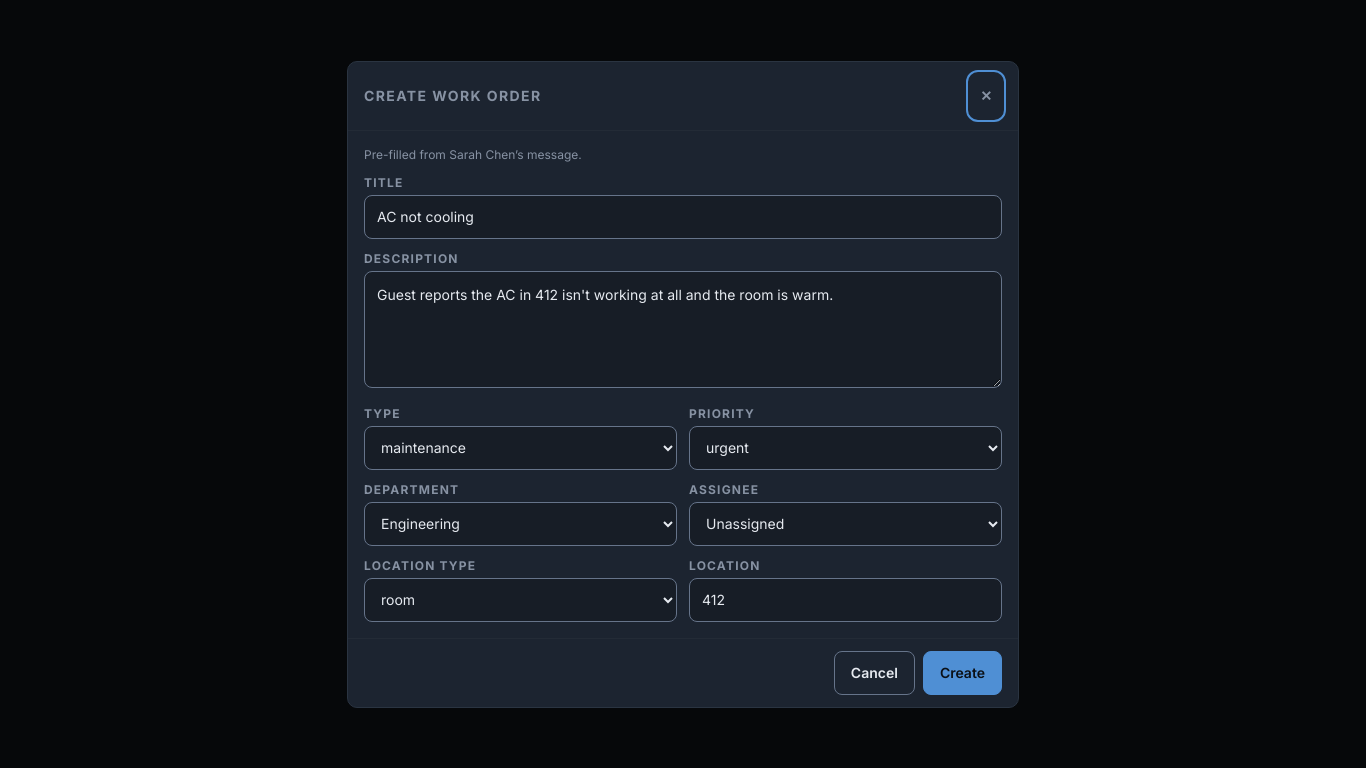
CreateWorkOrderModal › shows the server error and stays open on failure
Expected: the field labelled "Title" holds "AC not cooling", [364, 194, 1002, 238]
Click the button "Create" at (962, 672), box [923, 650, 1002, 694]
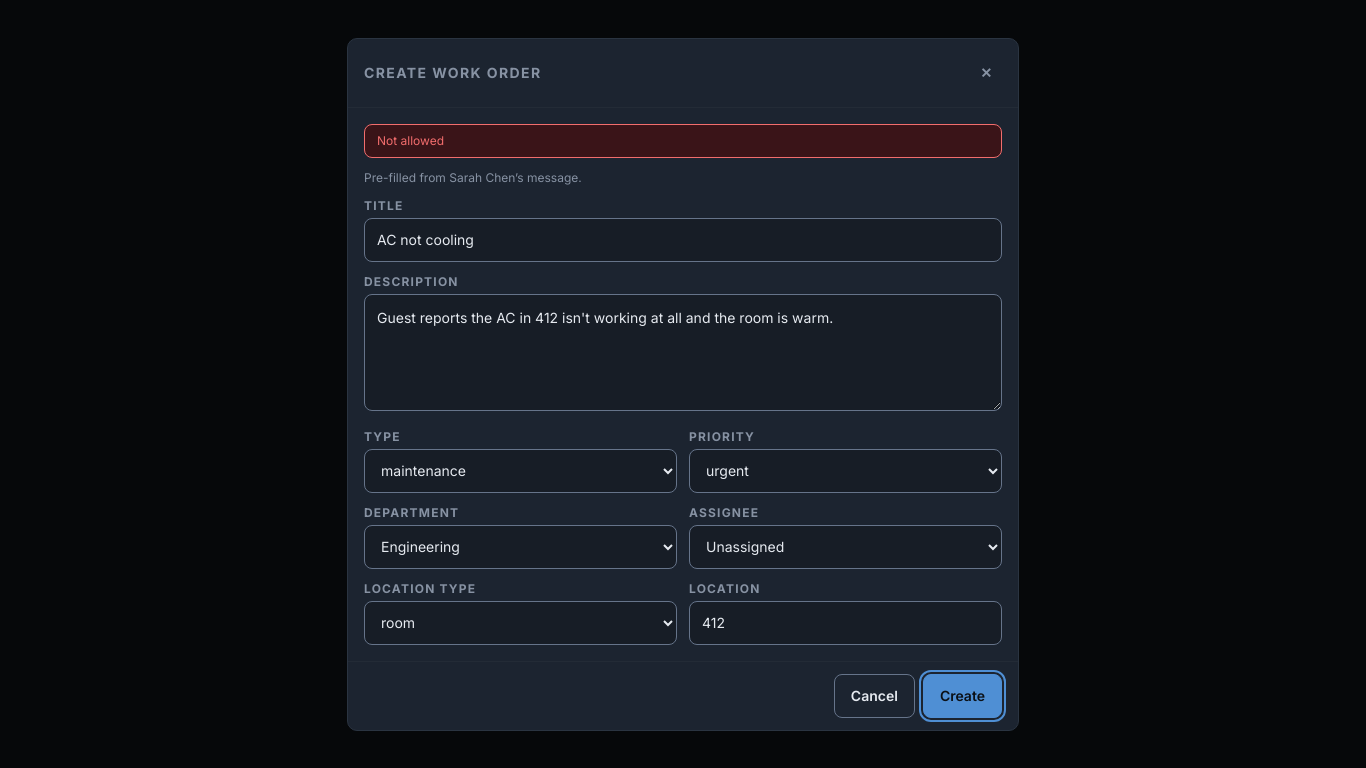
Expected: the message reads "Not allowed", [377, 132, 444, 148]
